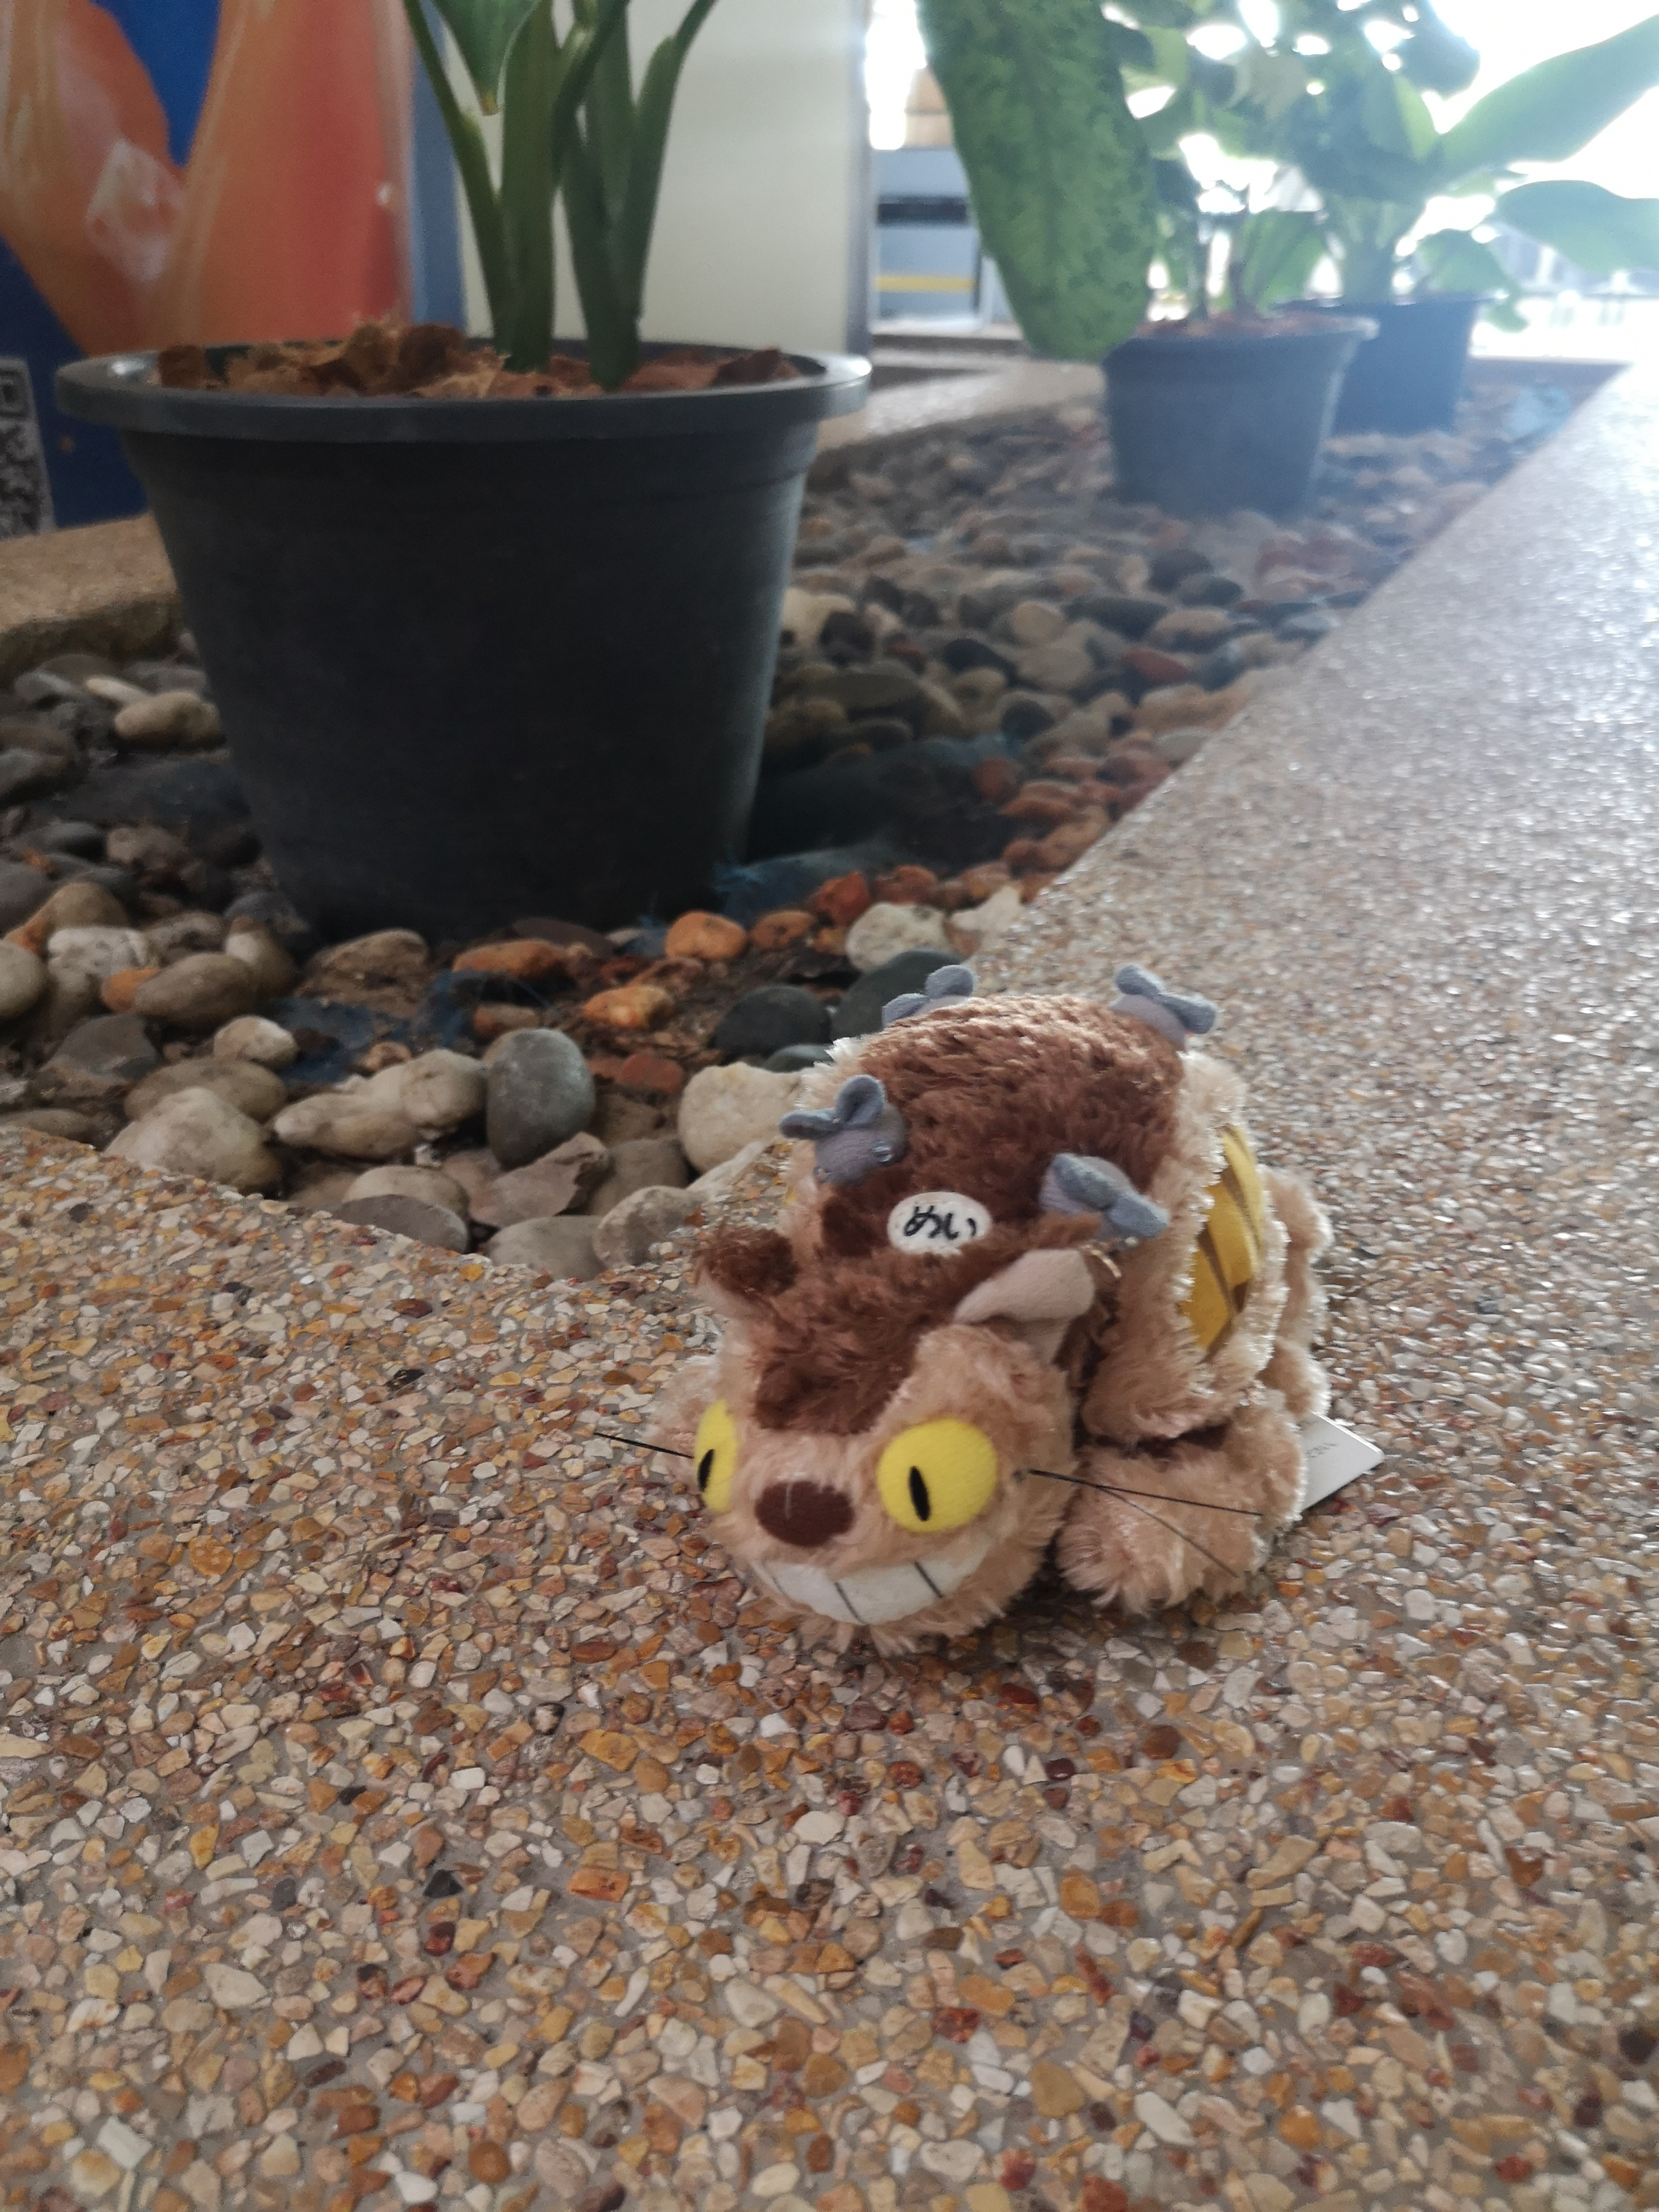nekobus: (678, 961, 1384, 1642)
